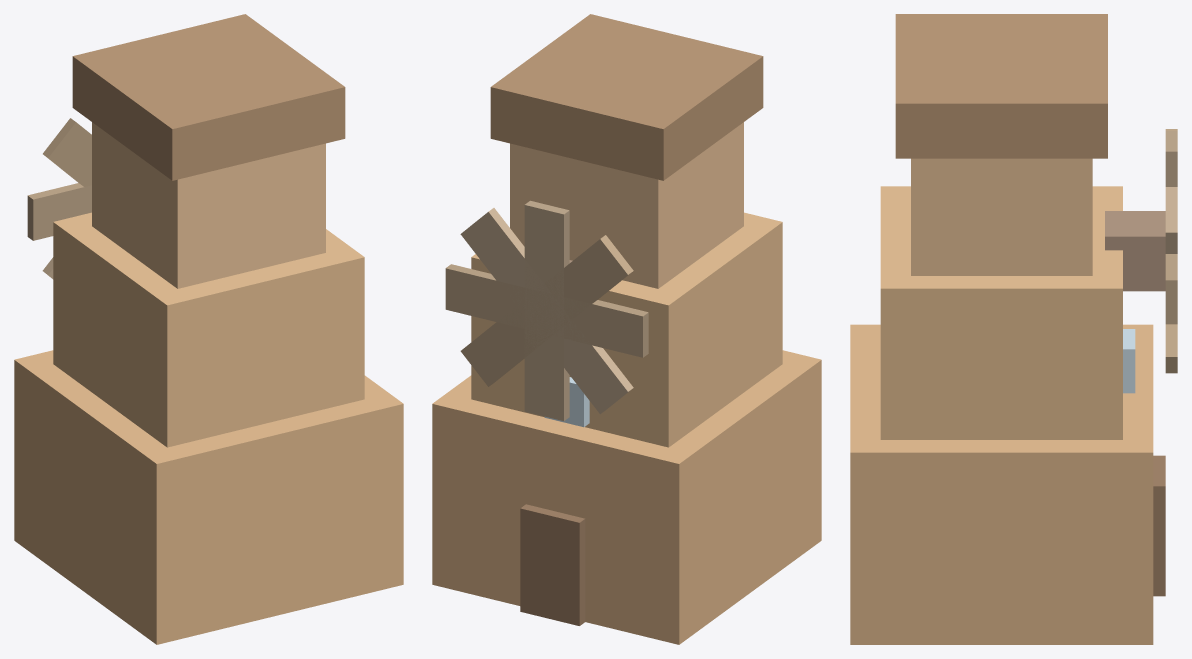
File: mill.glb
The picture shows the model from 3 angles, left to right: view 1: azimuth 30°, elevation 25°; view 2: azimuth 150°, elevation 25°; view 3: azimuth 270°, elevation 25°; orthographic projection. The views are drawn at different scales.
Visible parts, largest first — view 1: Mill; view 2: Mill; view 3: Mill.
Boxes of the visible parts, <box> form: Mill: <box>14,14,403,644</box>; Mill: <box>432,14,821,644</box>; Mill: <box>850,14,1177,644</box>.
Size of the model in its own units: 0.5 by 0.95 by 0.54.
